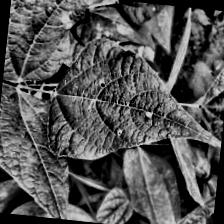Bean Rust: (38, 39, 224, 176), (2, 0, 111, 91), (109, 0, 201, 34), (193, 51, 224, 150)
